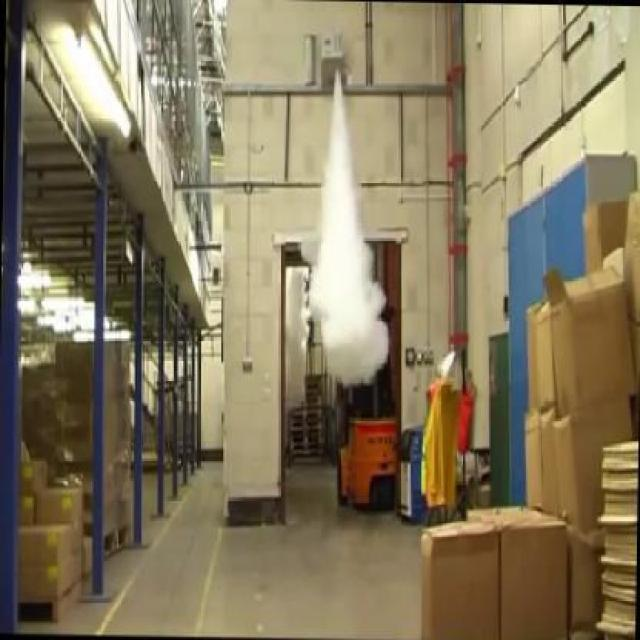fire: (306, 115, 392, 392)
